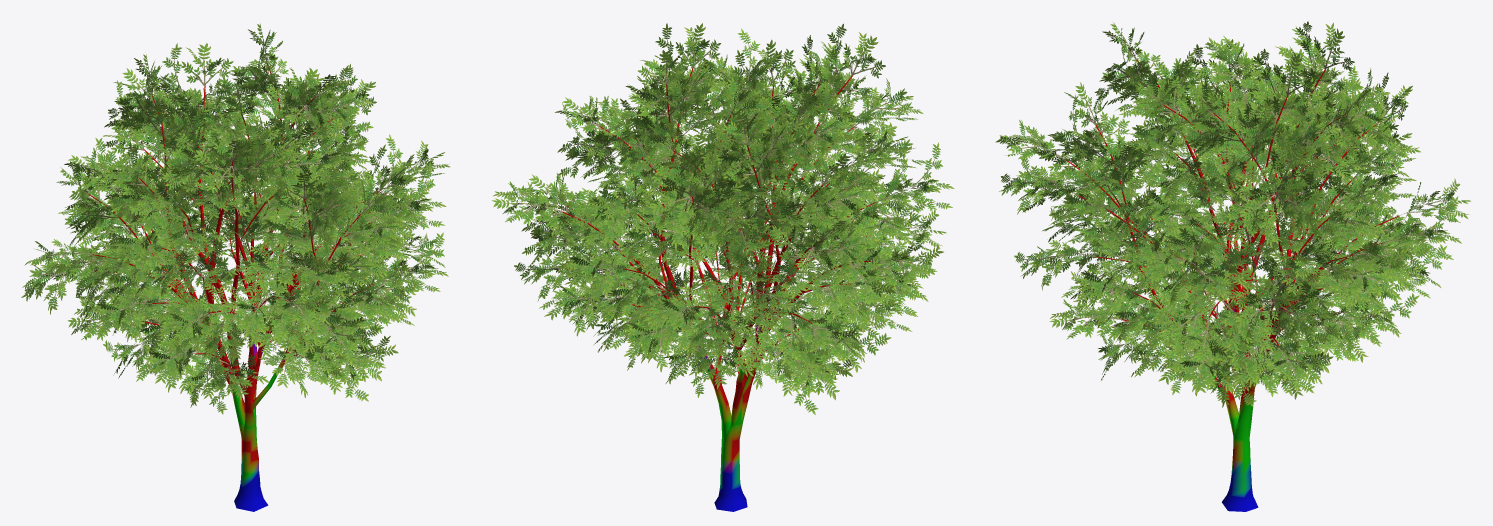
Rendered from MS_BroadTree01.fbx.
The picture shows the model from 3 angles, left to right: view 1: azimuth 30°, elevation 25°; view 2: azimuth 150°, elevation 25°; view 3: azimuth 270°, elevation 25°; orthographic projection. The views are drawn at different scales.
Parts seen in each view (by area): view 1: Leaves, TreeBare; view 2: Leaves, TreeBare; view 3: Leaves, TreeBare.
Part boxes in pixels (box(x1,y1,x2,y2)): Leaves: box(21, 23, 449, 414); TreeBare: box(89, 63, 386, 511); Leaves: box(492, 23, 954, 414); TreeBare: box(562, 67, 875, 511); Leaves: box(995, 21, 1470, 407); TreeBare: box(1065, 60, 1399, 511).
Bounding box in the file's own units: 1597 × 1761 × 1620.
